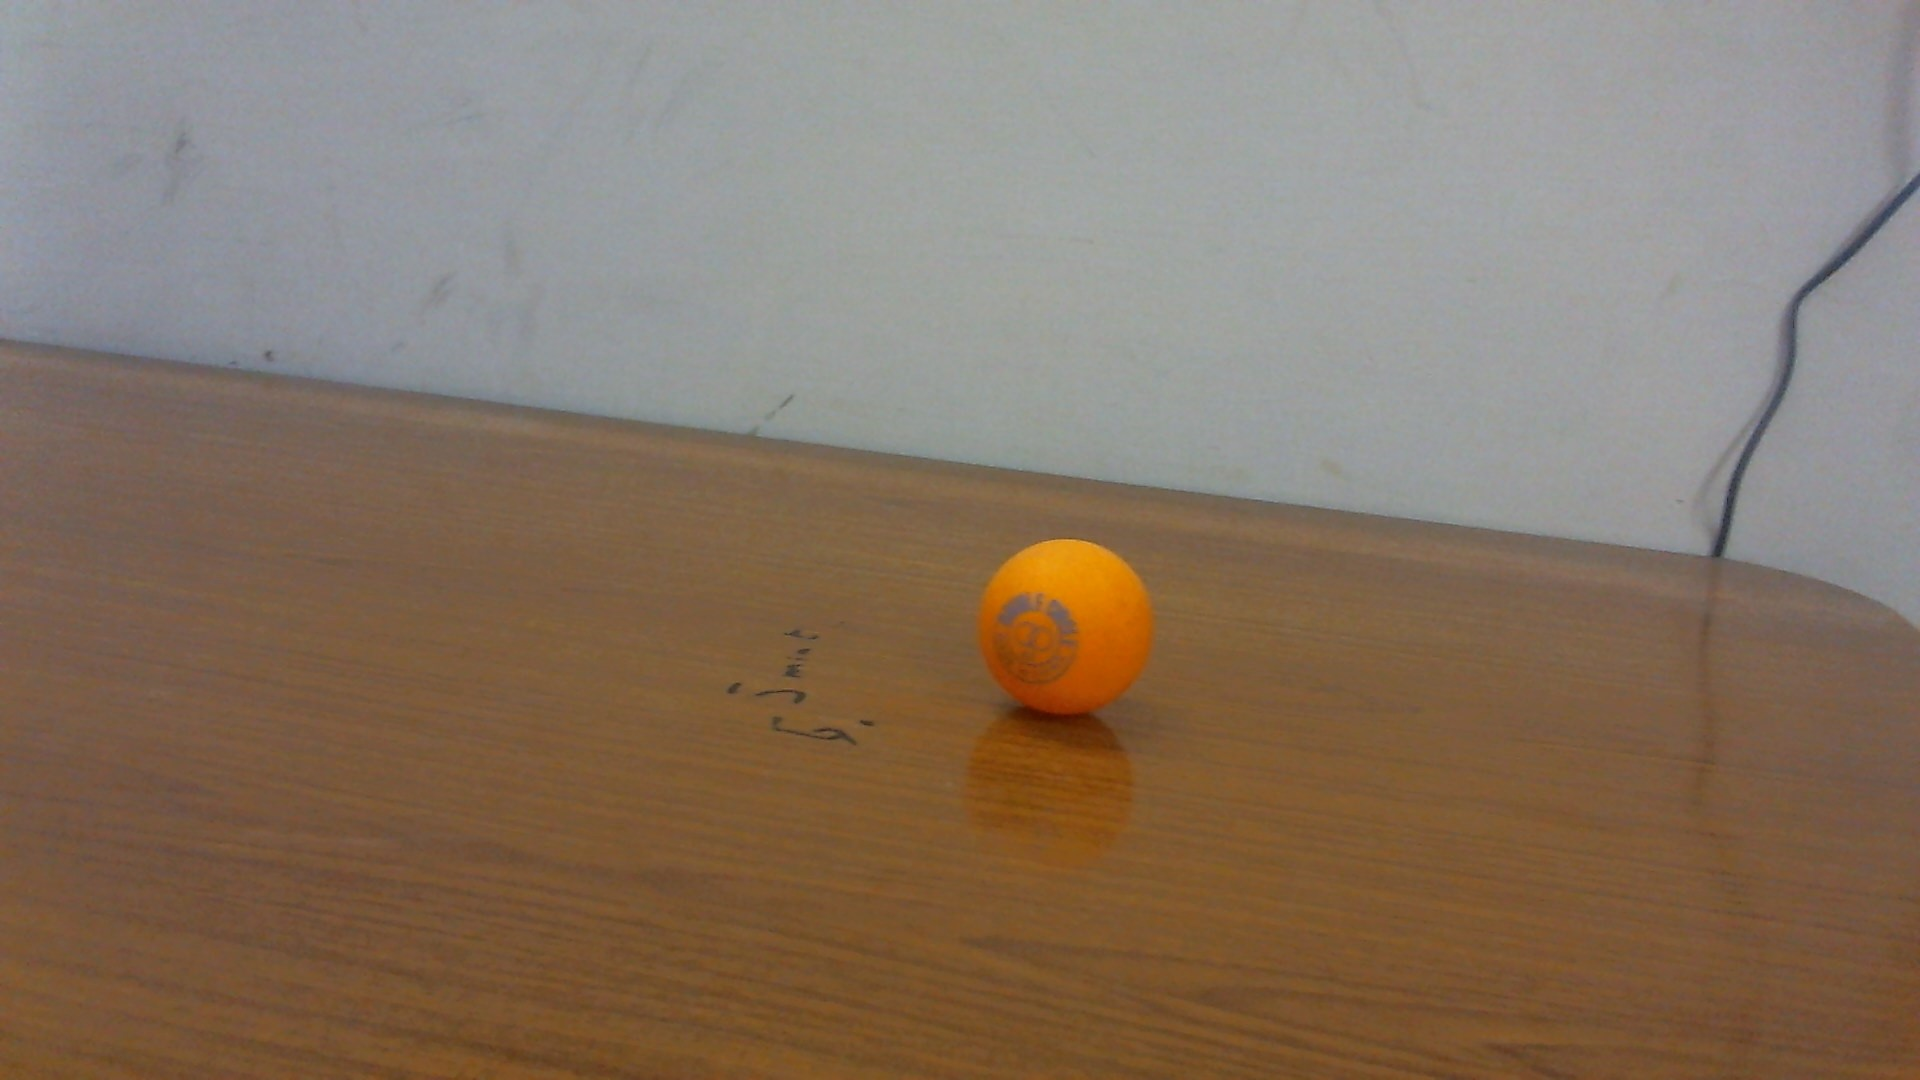ball: (975, 533, 1156, 717)
